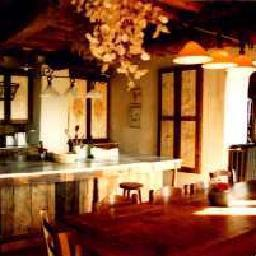Puerta: (161, 69, 197, 172)
